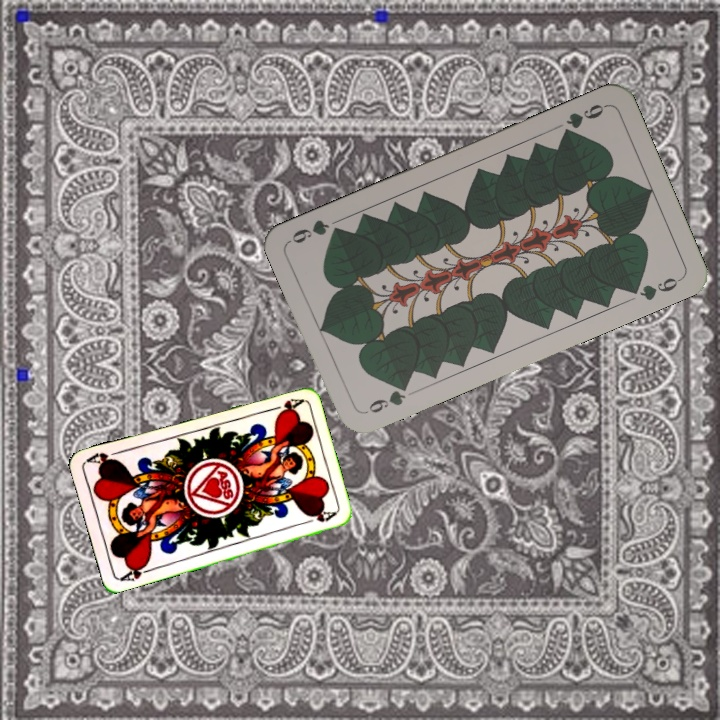G9: (558, 100, 610, 140), (360, 378, 412, 417)
HA: (116, 559, 156, 584), (264, 394, 304, 416)
